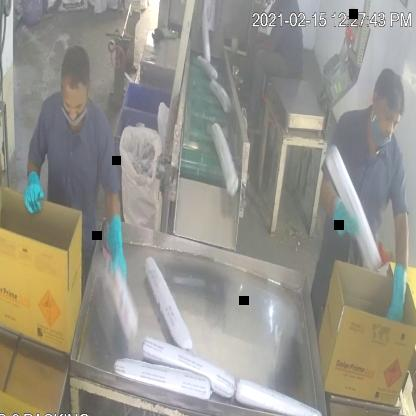glove: (379, 204, 414, 327), (101, 185, 133, 294), (321, 182, 364, 252), (17, 155, 48, 229)
